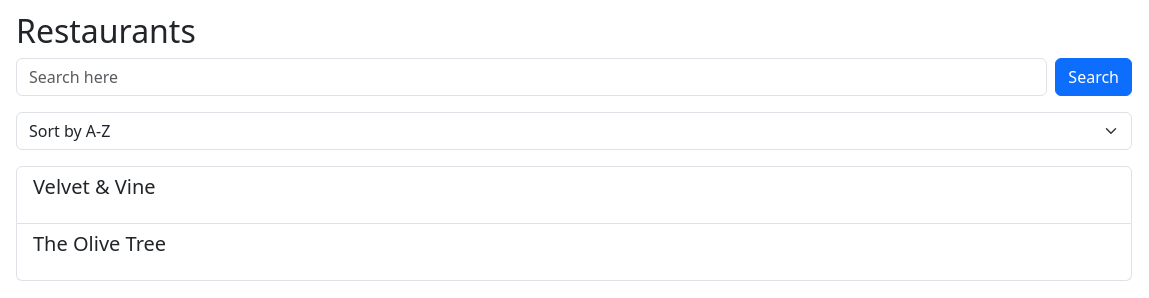
Scenario: RestaurantList Component › displays filtered restaurant data
Step 1. Type "vine" into the field with placeholder "Search here" → (532, 77), box [16,58,1047,96]
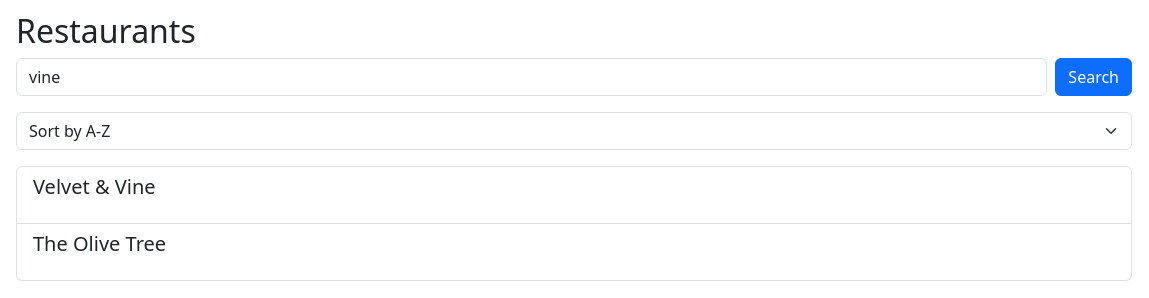
Step 2. Submit the form from the button "Search", box [1055,58,1132,96]
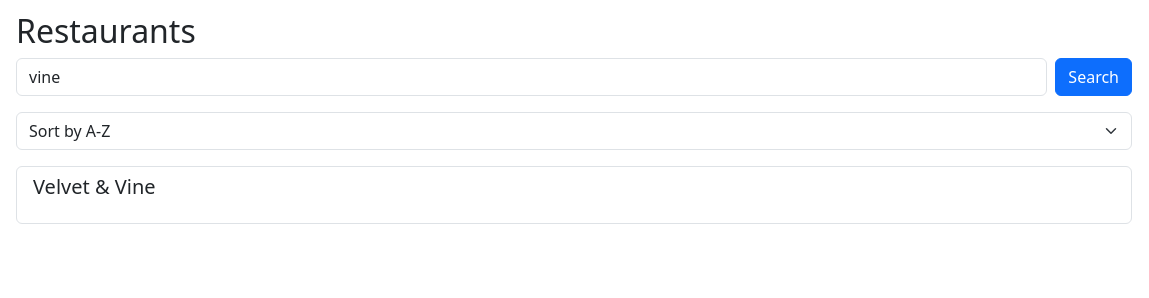
Expected: the heading "Velvet & Vine" is shown, [33,173,156,200]
Expected: the button "The Olive Tree" is gone
